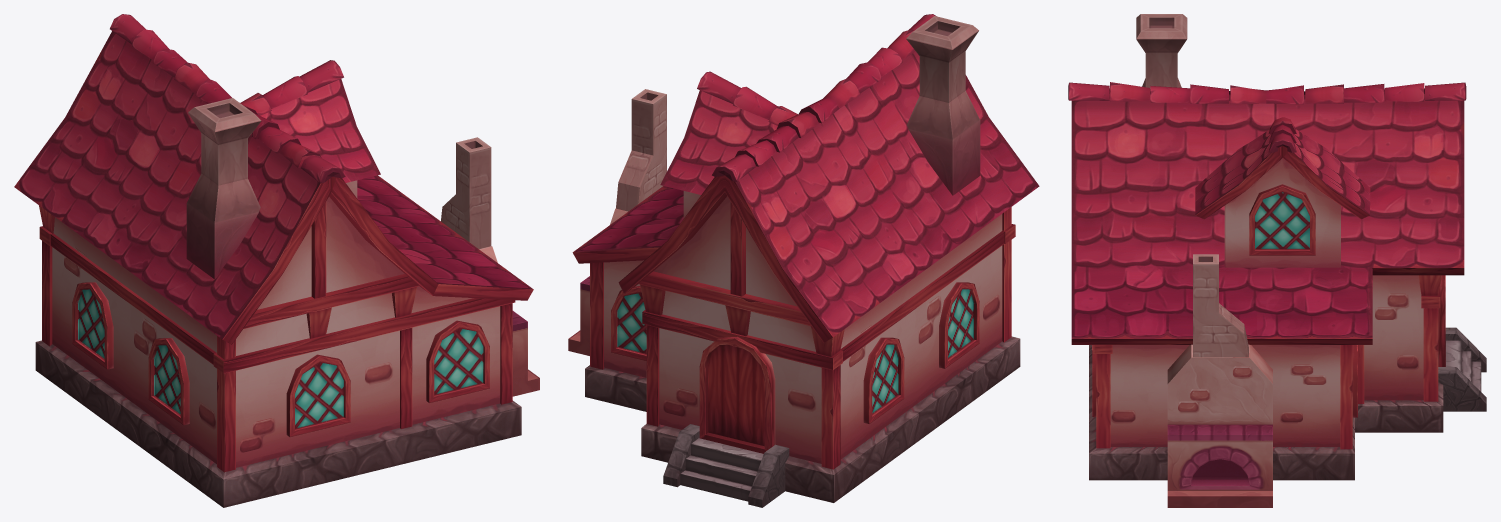
The model's file is houseRed.fbx.
3 views of the same model, side by side, from view 1: azimuth 30°, elevation 25°; view 2: azimuth 150°, elevation 25°; view 3: azimuth 270°, elevation 25° (orthographic). The views are drawn at different scales.
Visible parts, largest first — view 1: Baker_houseRed; view 2: Baker_houseRed; view 3: Baker_houseRed.
Boxes of the visible parts, left/top/right/bottom form: Baker_houseRed: left=14, top=14, right=539, bottom=507; Baker_houseRed: left=568, top=14, right=1039, bottom=507; Baker_houseRed: left=1068, top=14, right=1486, bottom=507.
Bounding box in the file's own units: 95.02 × 88.57 × 99.18.
